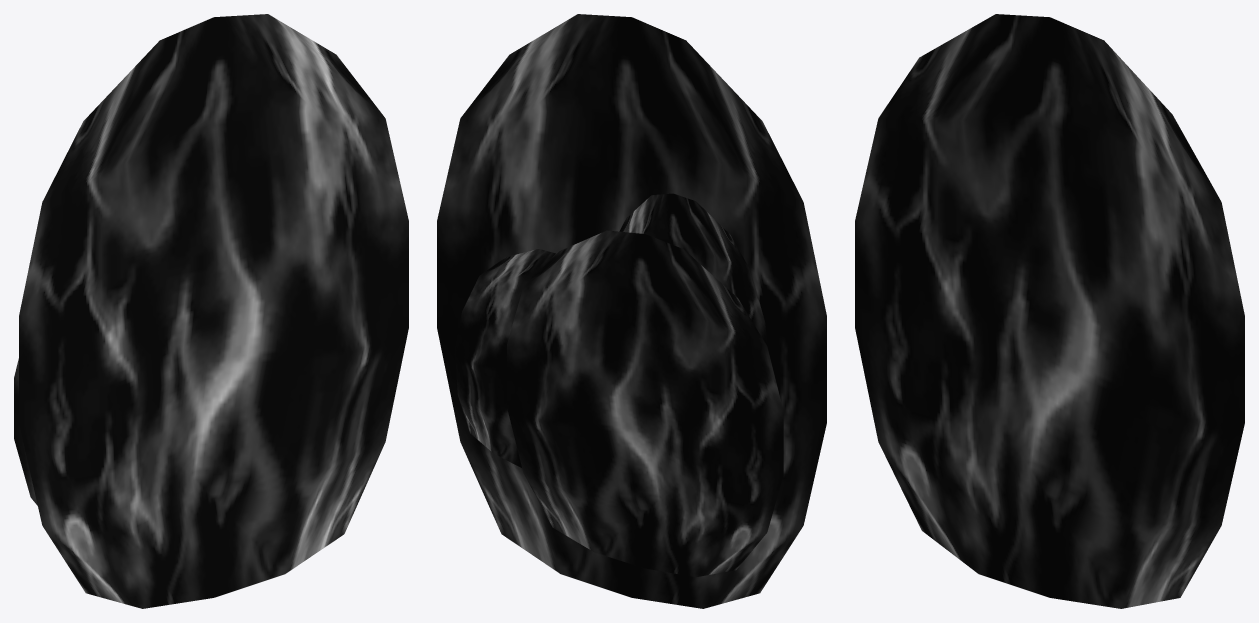
Rendered from CA_Lord_96.fbx.
3 views of the same model, side by side, from view 1: azimuth 30°, elevation 25°; view 2: azimuth 150°, elevation 25°; view 3: azimuth 330°, elevation 25° (orthographic).
Parts seen in each view (by area): view 1: Mesh_Aura01, Mesh_Aura03; view 2: Mesh_Aura01, Mesh_Aura03, Mesh_Aura01_2, Mesh_Aura01_1; view 3: Mesh_Aura01.
Boxes of the visible parts, bbox=[...] form: Mesh_Aura01: bbox=[19, 14, 408, 608]; Mesh_Aura03: bbox=[14, 358, 37, 505]; Mesh_Aura01: bbox=[437, 14, 826, 608]; Mesh_Aura03: bbox=[507, 230, 783, 577]; Mesh_Aura01_2: bbox=[455, 249, 555, 467]; Mesh_Aura01_1: bbox=[619, 193, 767, 346]; Mesh_Aura01: bbox=[855, 14, 1244, 608].
Size of the model in its own units: 970 by 1380 by 103.
Materials: 1 (1 with a texture image).
